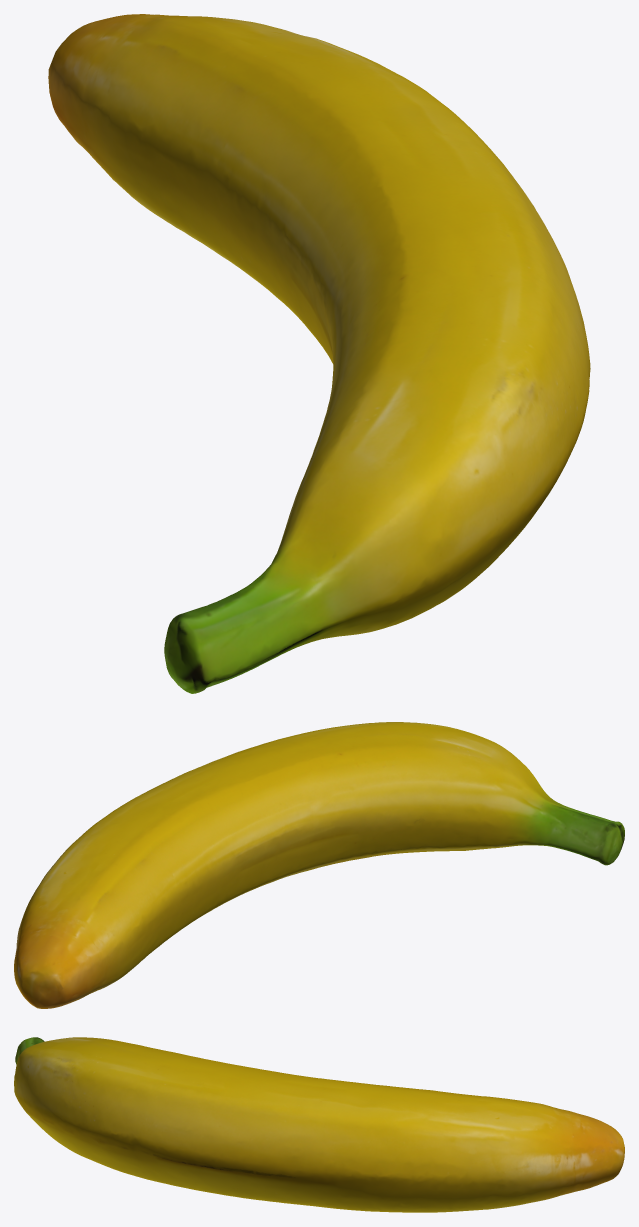
The model's file is food-banana.glb.
3 views of the same model, one above another, from view 1: azimuth 30°, elevation 25°; view 2: azimuth 150°, elevation 25°; view 3: azimuth 270°, elevation 25° (orthographic). The views are drawn at different scales.
Visible parts, largest first — view 1: food-banana; view 2: food-banana; view 3: food-banana.
Part boxes in pixels (x1,y1,x2,y2): food-banana: (48, 14, 590, 693); food-banana: (14, 722, 624, 1008); food-banana: (14, 1037, 624, 1212).
Bounding box in the file's own units: 0.1089 × 0.0367 × 0.1784.
1 material, 1 textured.
